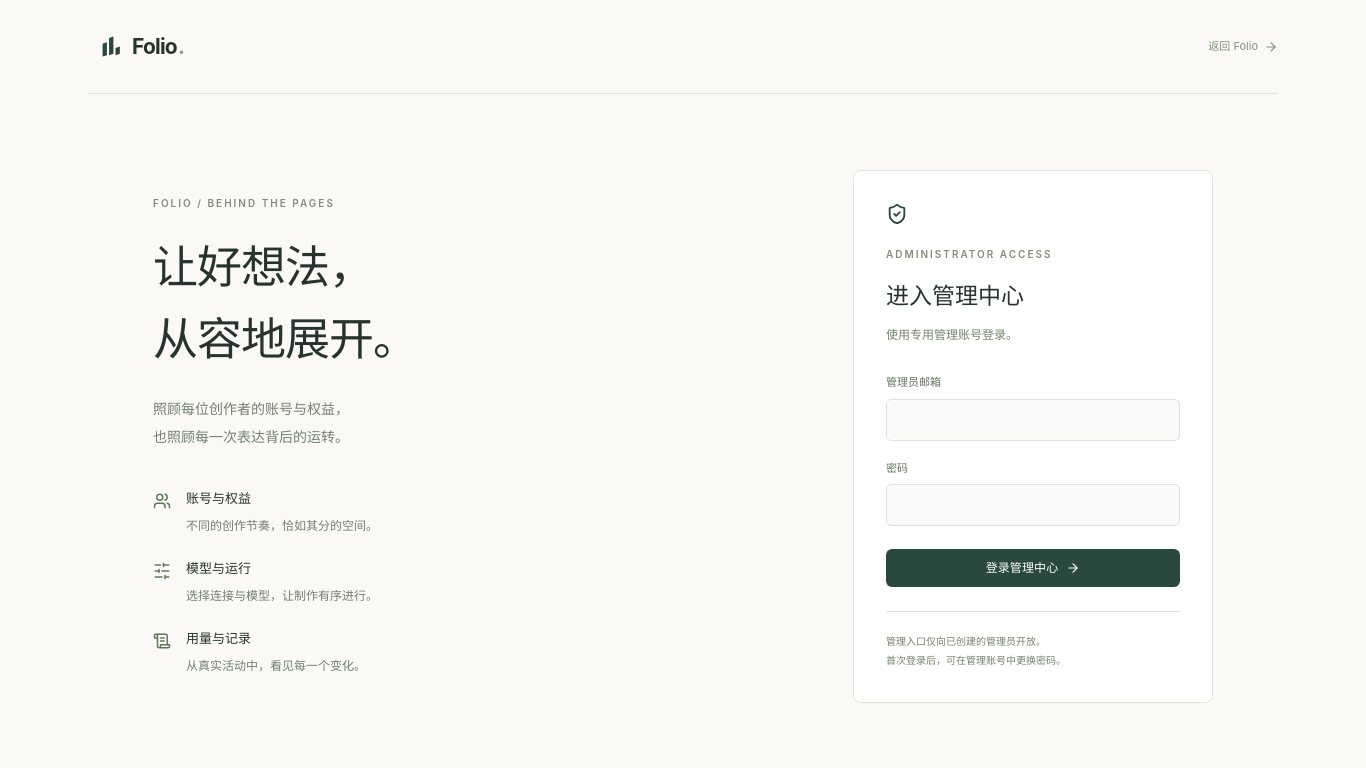
Test: uses the dedicated login and can return to the public homepage without an admin redirect loop
The width and height of the screenshot is (1366, 768).
Check: the heading "进入管理中心" is shown, box [886,282,1024,310]
Click the link "返回 Folio" at (1243, 47), box [1208,38,1278,55]
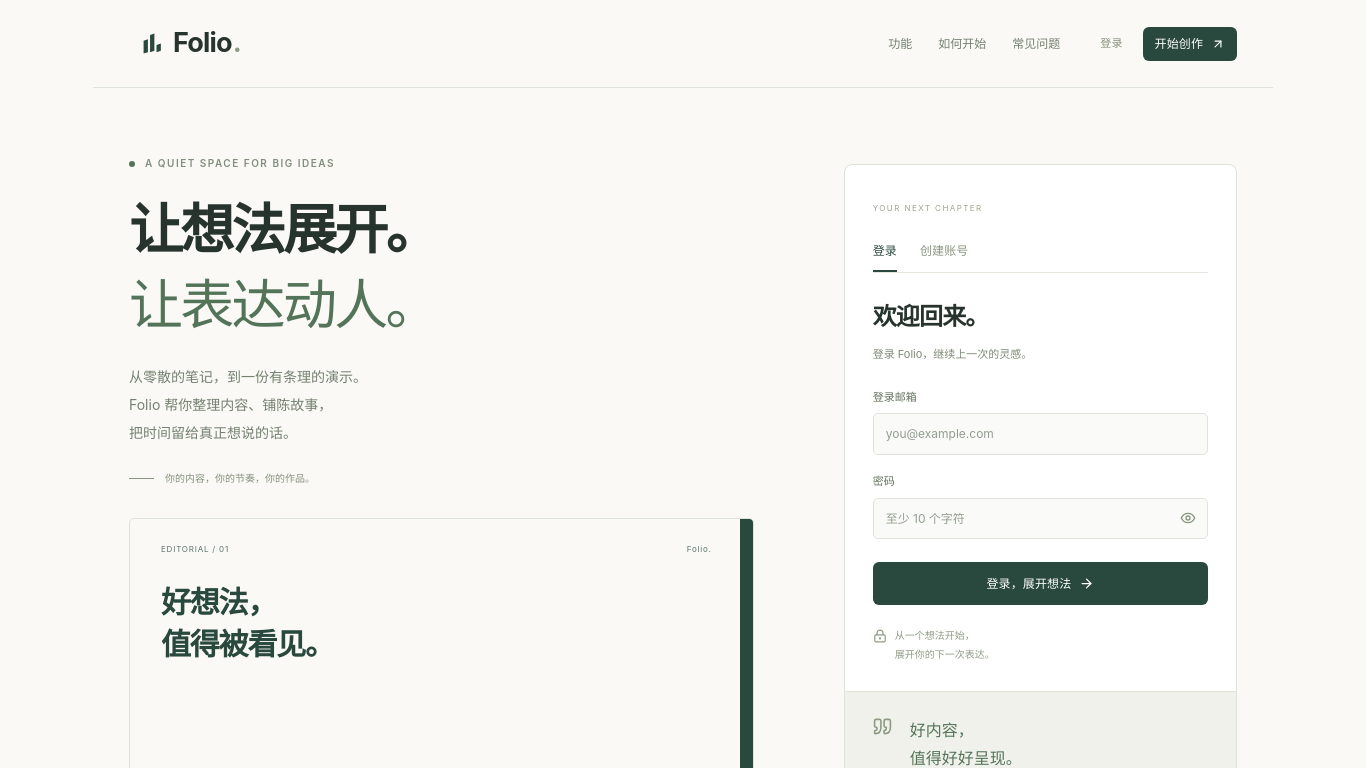
Check: the field labelled "登录邮箱" is shown, box [873,413,1208,455]
Check: the label "管理员邮箱" is gone
